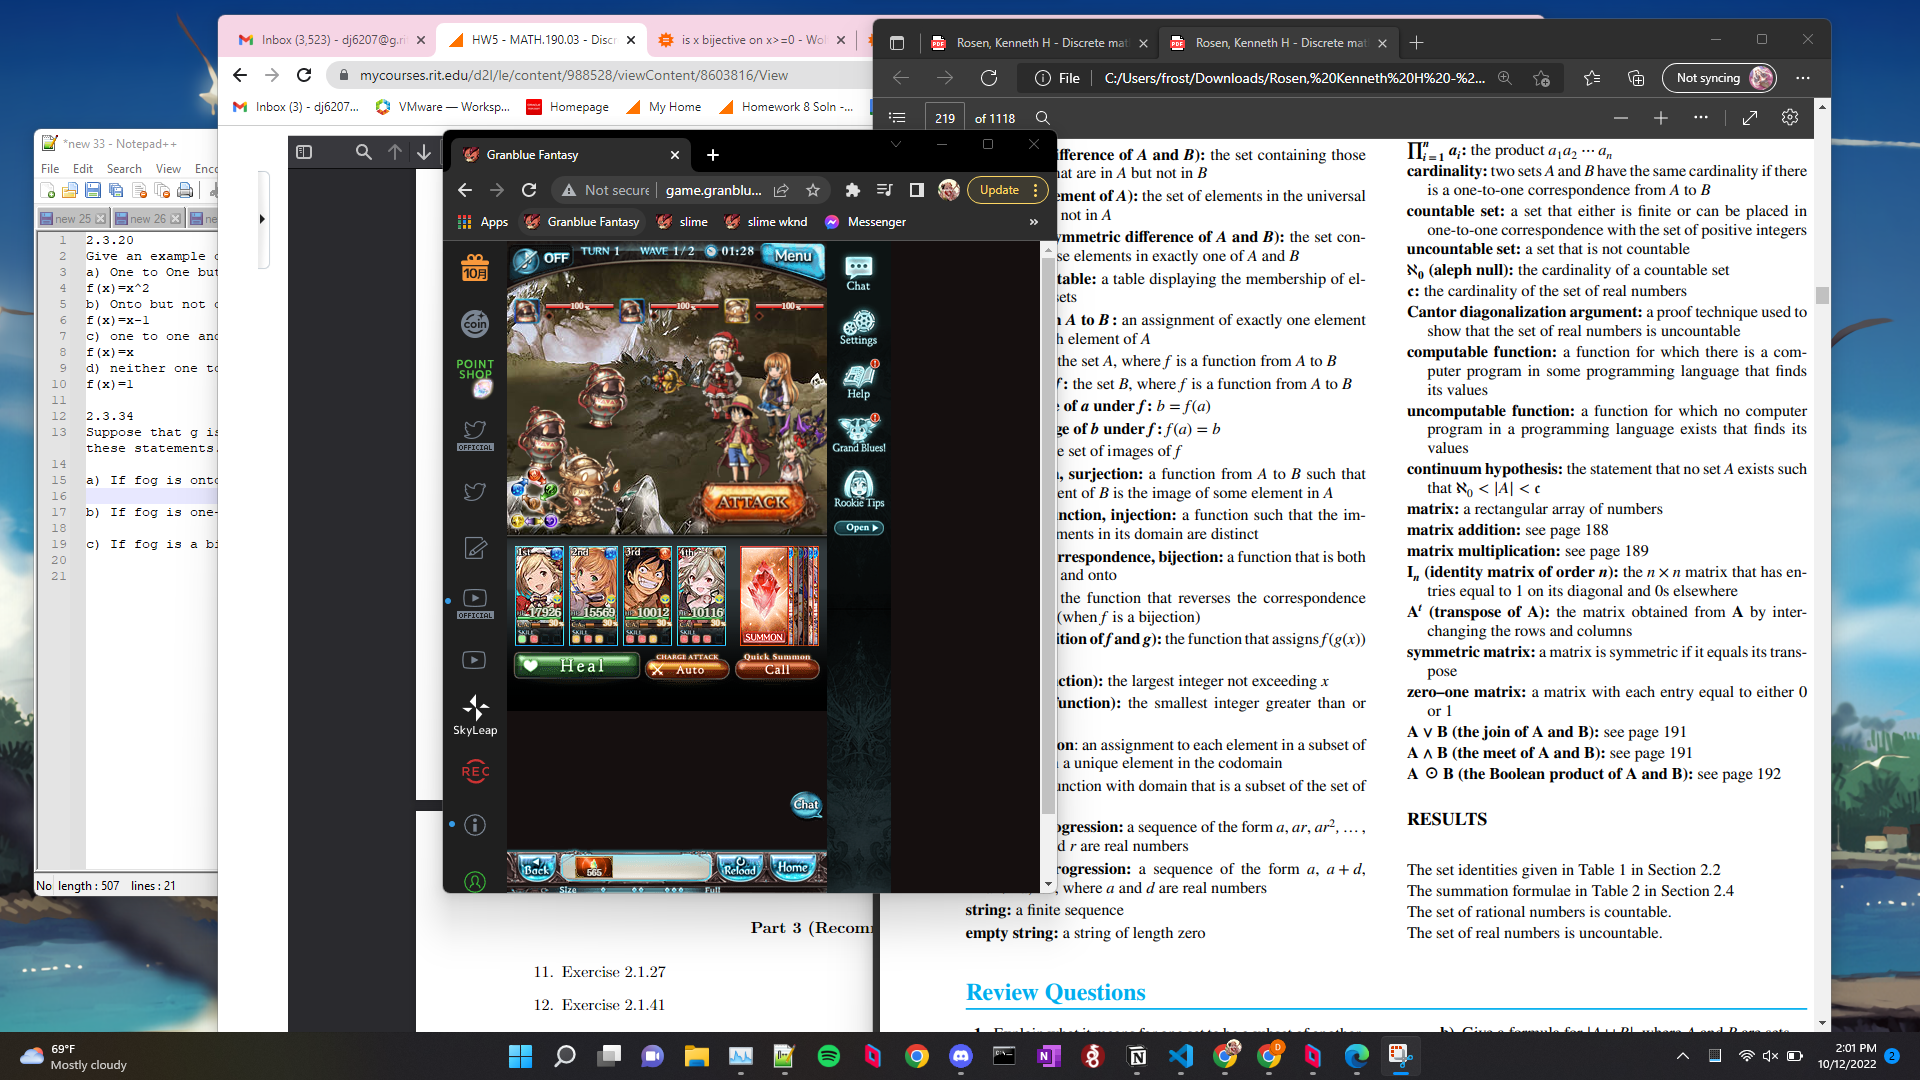Attack Button: (700, 483, 804, 522)
Back Button: (517, 849, 560, 885)
Battle Screen: (509, 240, 827, 848)
Browser: (442, 131, 1055, 895)
Character Slot 1: (514, 546, 564, 646)
Character Slot 2: (570, 546, 617, 646)
Character Slot 3: (622, 546, 671, 645)
Character Slot 4: (678, 546, 727, 646)
Enemy: (546, 446, 620, 525), (578, 357, 630, 431), (520, 402, 566, 472)
Home Button: (767, 853, 823, 882)
MC: (514, 546, 563, 645)
Quick Summon: (737, 654, 822, 678)
Reload Button: (719, 853, 765, 885)
Sarasa: (676, 545, 725, 646)
Turn Number: (576, 243, 626, 258)
Wave 1/2: (636, 243, 699, 260)
